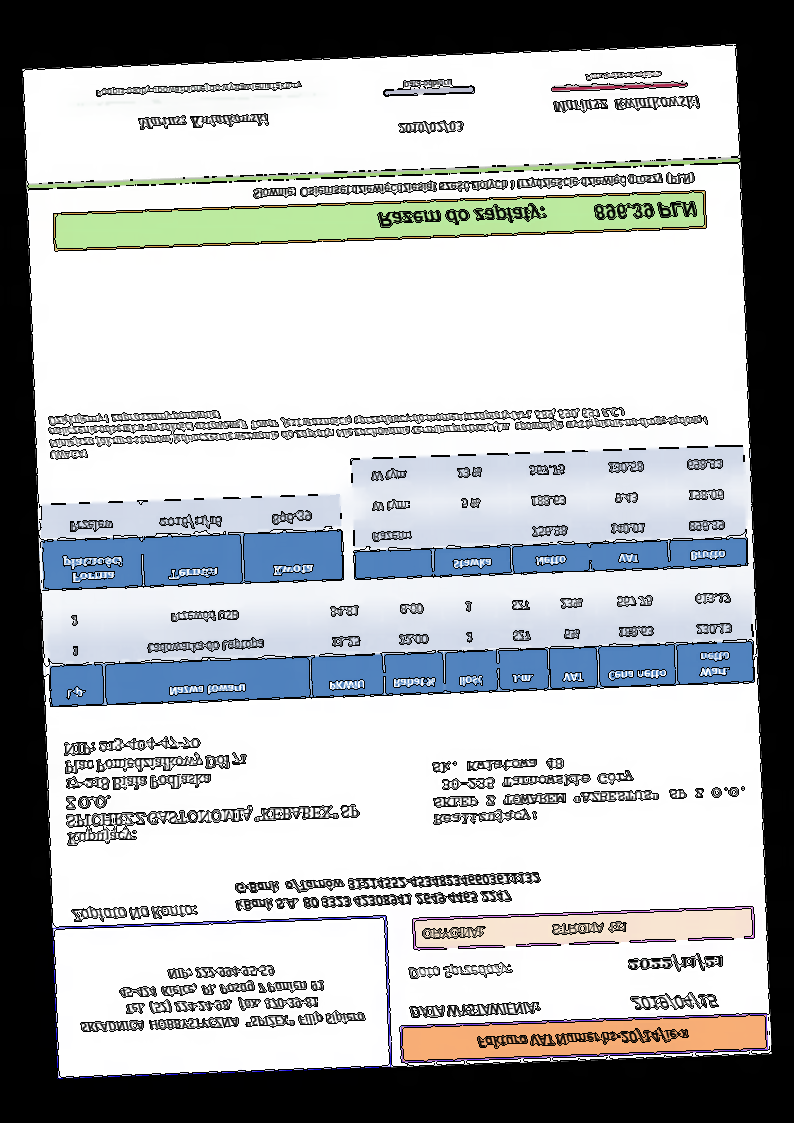Table: (44, 576, 757, 709), (349, 444, 748, 582), (39, 493, 344, 592)
TextBox: (45, 390, 712, 464), (58, 729, 365, 851), (427, 747, 746, 829), (77, 960, 366, 1037), (251, 168, 699, 204), (232, 870, 543, 915), (375, 196, 700, 234), (475, 1025, 689, 1052), (92, 76, 304, 102), (420, 918, 631, 944), (551, 91, 705, 116), (135, 110, 271, 135), (67, 902, 201, 926), (408, 1000, 542, 1023), (624, 949, 725, 975), (406, 960, 513, 984), (627, 991, 720, 1014), (583, 65, 664, 85), (395, 117, 464, 138), (400, 77, 454, 92)
